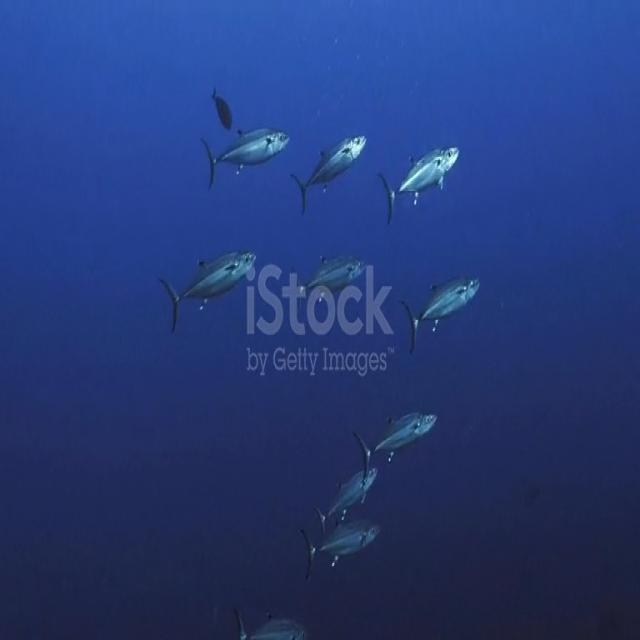fish: (374, 128, 482, 219), (156, 246, 272, 322), (398, 263, 488, 337), (293, 125, 373, 202), (350, 397, 442, 463), (290, 241, 376, 304), (303, 459, 392, 519), (199, 124, 290, 181), (304, 522, 392, 568), (236, 599, 306, 640), (212, 81, 236, 141)
